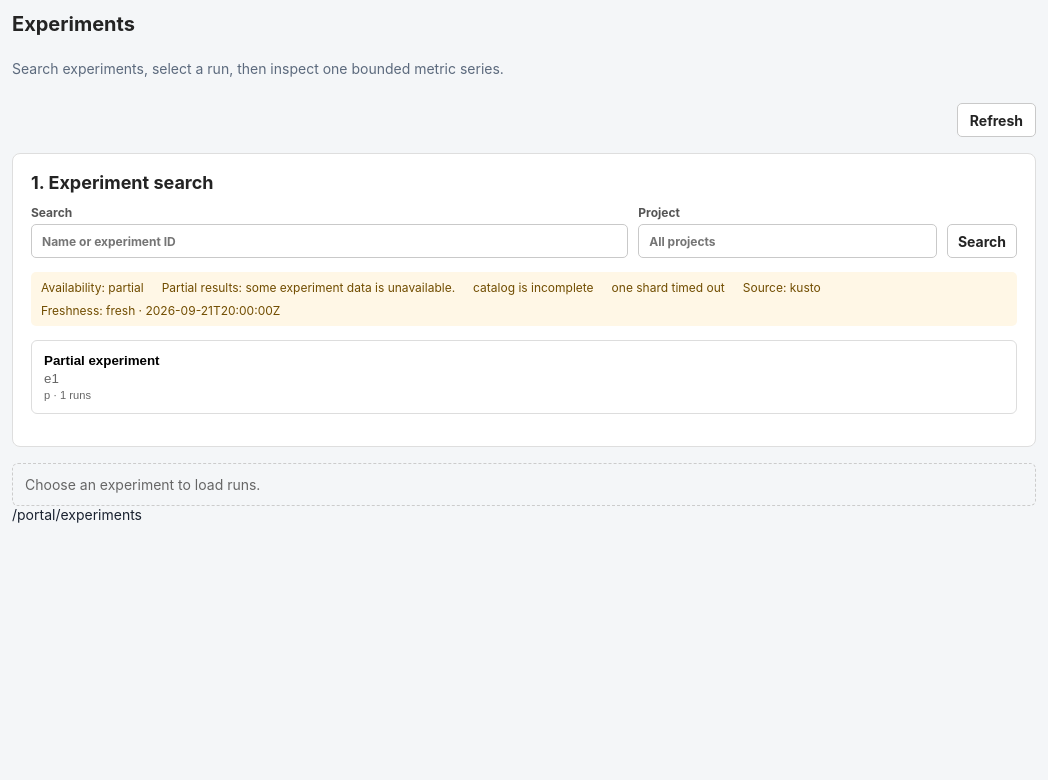
Test: typed experiment dashboard › renders canonical API errors and partial availability explicitly
Expected: the text "Partial results: some experiment data is unavailable." is shown, [162, 280, 455, 295]
Expected: the text "one shard timed out" is shown, [612, 280, 725, 295]
Click the button "Partial experiment e1 p · 1 runs".
click(102, 360)  # box [31, 340, 1017, 414]
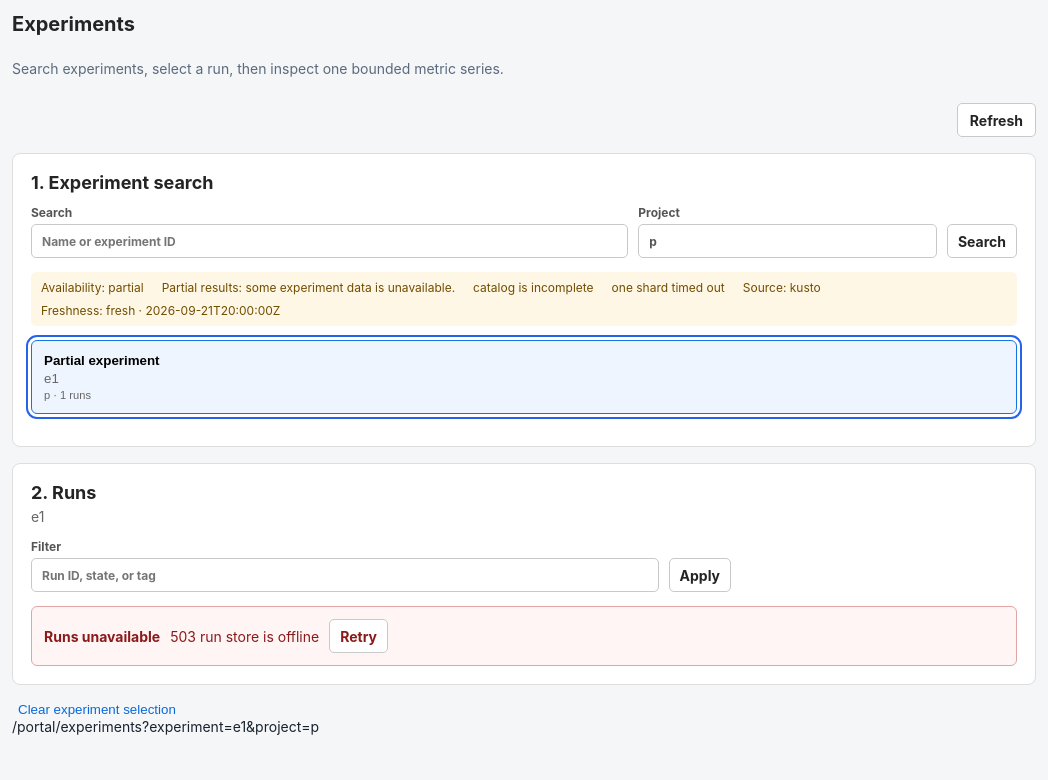
Now the message "Runs unavailable 503 run store is offline Retry" is shown, box [31, 606, 1017, 666]
